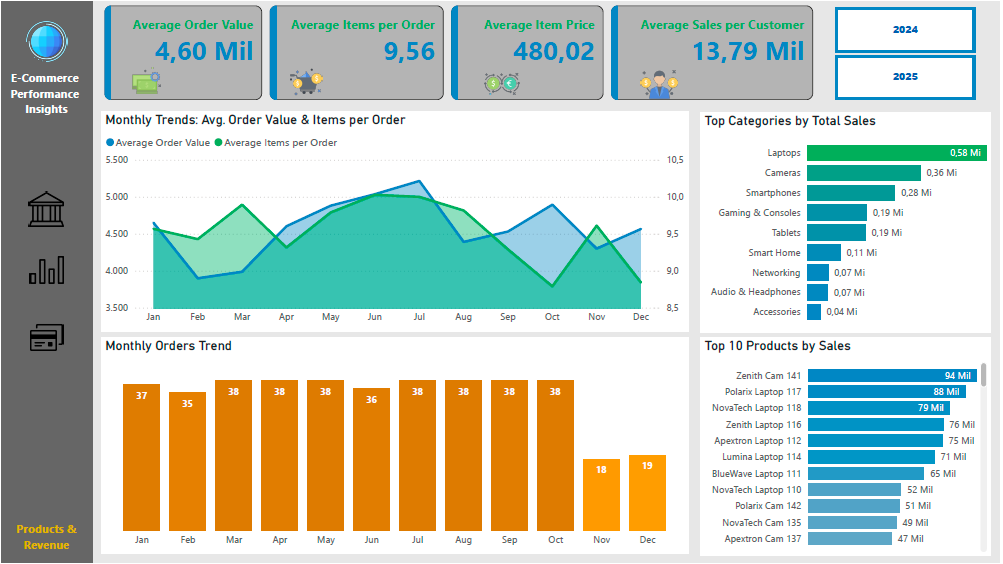

This screenshot's page, from the dashboard's own definition file:
{"tool":"powerbi","page":{"name":"Products & Revenue Mix","canvas":[1280,720],"ordinal":1},"visuals":[{"type":"areaChart","title":"Monthly Trends: Avg. Order Value & Items per Order","fields":{"Category":["dCalendar.month_abbr"],"Y":["indicators.Average Order Value"],"Y2":["indicators.Average Items per Order"]},"box":[127.7,141,753.7,282],"z":0},{"type":"shape","box":[0,0,116.2,720.9],"z":1000},{"type":"clusteredBarChart","title":"Top Categories by Total Sales","fields":{"Category":["categories.category_name"],"Y":["indicators.Total Sales by Category"]},"box":[897.1,141.8,372.3,281.9],"z":2000},{"type":"clusteredBarChart","title":"Top 10 Products by Sales","fields":{"Category":["products.product_name"],"Y":["indicators.Total Sales by Product"]},"box":[897.3,430.9,371.5,280.2],"z":3000},{"type":"clusteredColumnChart","title":"Monthly Orders Trend","fields":{"Category":["dCalendar.month_abbr"],"Y":["indicators.Total Orders"]},"box":[127.7,430.9,753.7,277.5],"z":4000},{"type":"cardVisual","fields":{"Data":["indicators.Average Order Value"]},"box":[127.4,0,211.5,131.1],"z":5000},{"type":"cardVisual","fields":{"Data":["indicators.Average Items per Order"]},"box":[339,0,232.6,130.7],"z":6000},{"type":"cardVisual","fields":{"Data":["indicators.Average Item Price"]},"box":[571.6,0,205.2,130.7],"z":7000},{"type":"cardVisual","fields":{"Data":["indicators.Avg Sales per Customer"]},"box":[776.8,0,269.1,130.7],"z":8000},{"type":"image","box":[30.1,237.6,54.1,55],"z":9000},{"type":"image","box":[31,317.4,53.2,54.1],"z":10000},{"type":"image","box":[31,405.2,53.2,51.4],"z":11000},{"type":"textbox","box":[0,82.5,115.3,74.5],"z":12000},{"type":"image","box":[25.7,19.5,63,63],"z":13000},{"type":"slicer","fields":{"Values":["dCalendar.year"]},"box":[1044.2,0,228.7,133],"z":14000},{"type":"textbox","box":[0,661.4,115.1,50.8],"z":15000}]}

Visuals, with their boxes on the page's 1280x720 design canvas (x1, y1, x2, y2). These are canvas units, not pixel positions in the 1003x564 screenshot, which may show the page scaled, cropped or inside an application window:
"Monthly Trends: Avg. Order Value & Items per Order" areaChart: (left=128, top=141, right=881, bottom=423)
shape: (left=0, top=0, right=116, bottom=721)
"Top Categories by Total Sales" clusteredBarChart: (left=897, top=142, right=1269, bottom=424)
"Top 10 Products by Sales" clusteredBarChart: (left=897, top=431, right=1269, bottom=711)
"Monthly Orders Trend" clusteredColumnChart: (left=128, top=431, right=881, bottom=708)
cardVisual - indicators.Average Order Value: (left=127, top=0, right=339, bottom=131)
cardVisual - indicators.Average Items per Order: (left=339, top=0, right=572, bottom=131)
cardVisual - indicators.Average Item Price: (left=572, top=0, right=777, bottom=131)
cardVisual - indicators.Avg Sales per Customer: (left=777, top=0, right=1046, bottom=131)
image: (left=30, top=238, right=84, bottom=293)
image: (left=31, top=317, right=84, bottom=372)
image: (left=31, top=405, right=84, bottom=457)
textbox: (left=0, top=82, right=115, bottom=157)
image: (left=26, top=20, right=89, bottom=82)
slicer - dCalendar.year: (left=1044, top=0, right=1273, bottom=133)
textbox: (left=0, top=661, right=115, bottom=712)
